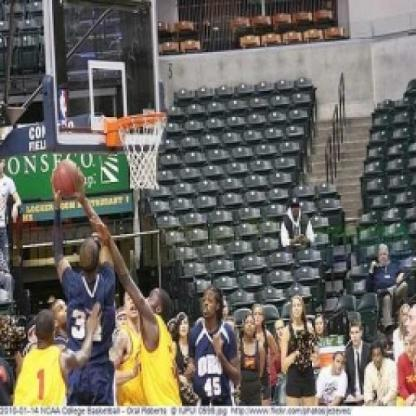basketball: (48, 155, 86, 199)
